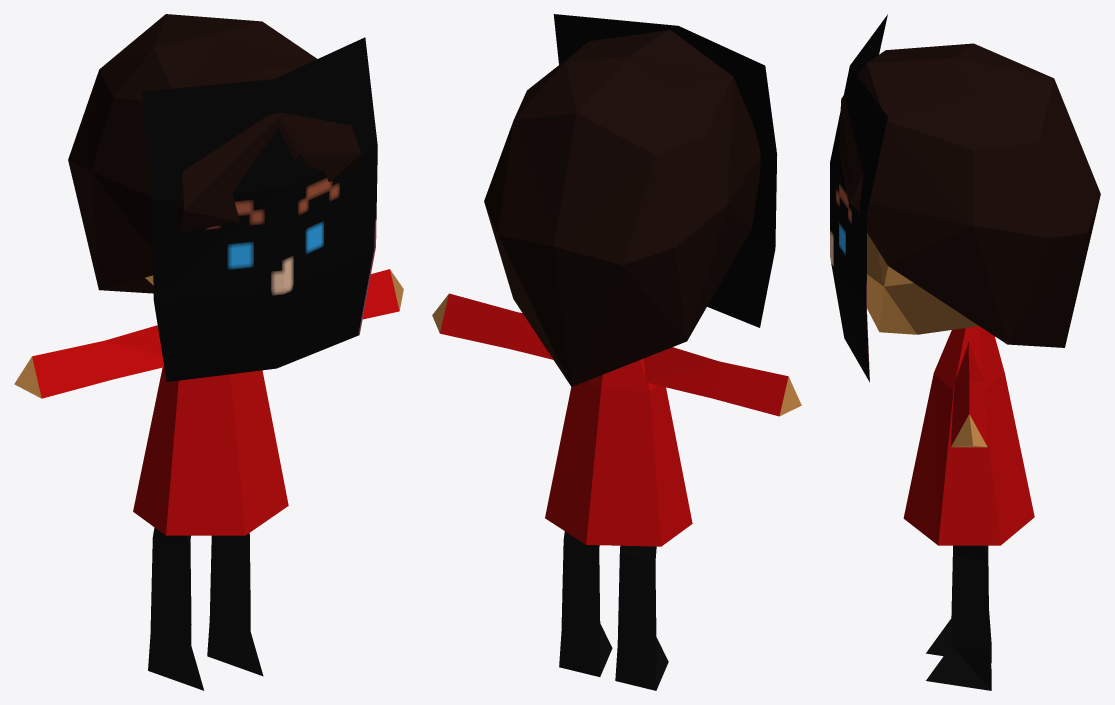
Rendered from bod-dress.obj.
3 views of the same model, side by side, from view 1: azimuth 30°, elevation 25°; view 2: azimuth 150°, elevation 25°; view 3: azimuth 270°, elevation 25° (orthographic). The views are drawn at different scales.
Visible parts, largest first — view 1: face_Plane, hair_Cube, dress_Cube.005, leg_Cube.002, arm_Cube.001; view 2: hair_Cube, dress_Cube.005, face_Plane, leg_Cube.002, arm_Cube.001; view 3: hair_Cube, dress_Cube.005, face_Plane, leg_Cube.002, head_Cube.004, arm_Cube.001.
Boxes of the visible parts, left/top/right/bottom form: face_Plane: left=142, top=37, right=377, bottom=381; hair_Cube: left=68, top=14, right=361, bottom=293; dress_Cube.005: left=133, top=367, right=288, bottom=535; leg_Cube.002: left=148, top=527, right=263, bottom=690; arm_Cube.001: left=14, top=269, right=403, bottom=398; hair_Cube: left=484, top=30, right=760, bottom=386; dress_Cube.005: left=545, top=358, right=692, bottom=546; face_Plane: left=553, top=14, right=777, bottom=327; leg_Cube.002: left=559, top=531, right=668, bottom=690; arm_Cube.001: left=432, top=293, right=801, bottom=416; hair_Cube: left=838, top=43, right=1100, bottom=347; dress_Cube.005: left=903, top=326, right=1034, bottom=545; face_Plane: left=830, top=14, right=887, bottom=382; leg_Cube.002: left=926, top=545, right=991, bottom=690; head_Cube.004: left=867, top=233, right=978, bottom=334; arm_Cube.001: left=951, top=342, right=987, bottom=447.
Bounding box in the file's own units: 5.57 × 8.76 × 3.53.
